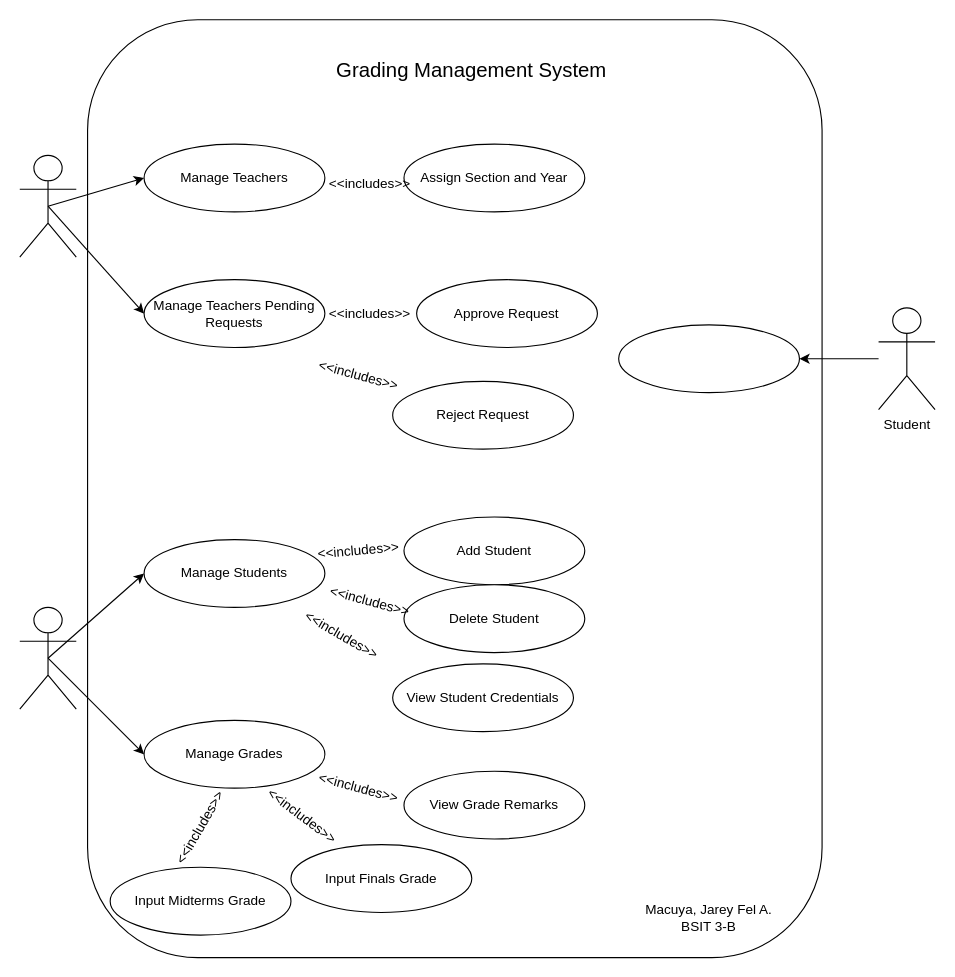
The diagram is 955 pixels wide and 977 high, and some of its shapes have lost their labels. The shapes that lost their labels are listed below. From the top down, each one's centre as x and y in pixels, then its label:
(x=47, y=205): Admin
(x=708, y=358): View Grades and Remarks
(x=47, y=657): Teacher
